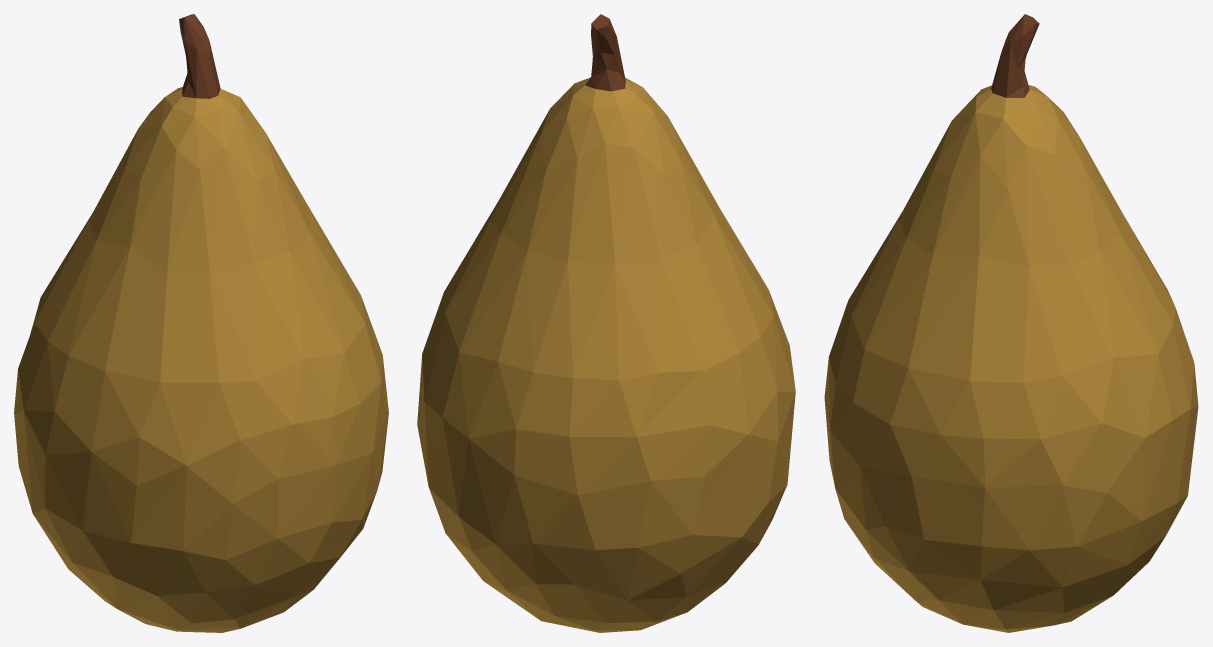
File: pear.fbx
3 views of the same model, side by side, from view 1: azimuth 30°, elevation 25°; view 2: azimuth 150°, elevation 25°; view 3: azimuth 270°, elevation 25° (orthographic).
Visible parts, largest first — view 1: Avokado.004; view 2: Avokado.004; view 3: Avokado.004.
Part boxes in pixels (left/top/right/bottom): Avokado.004: left=14, top=14, right=388, bottom=632; Avokado.004: left=417, top=14, right=795, bottom=632; Avokado.004: left=824, top=14, right=1198, bottom=632.
Bounding box in the file's own units: 0.2619 × 0.4645 × 0.2621.
